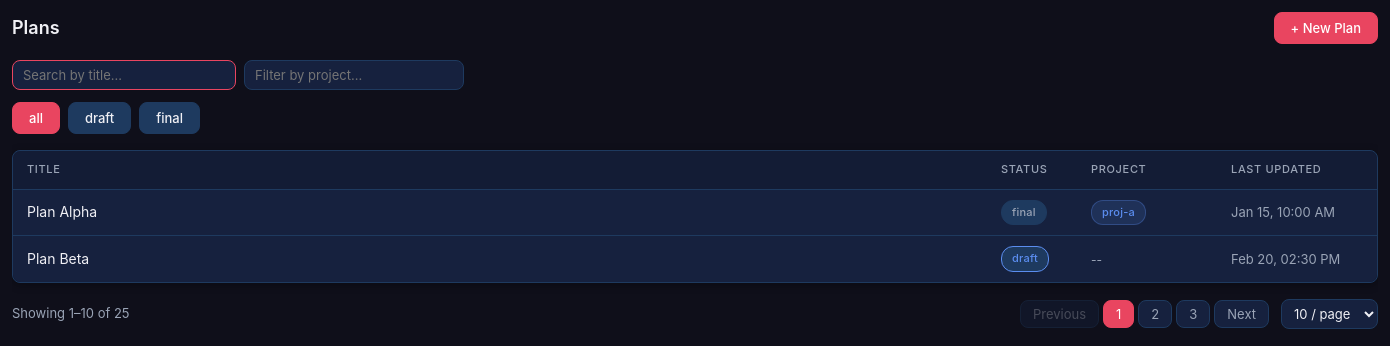
Scenario: PlansIndexPage › coalesces typing into one search request without requiring Enter or a button
The width and height of the screenshot is (1390, 346).
Expected: the text "Plan Alpha" is shown, [13,189,987,236]
Type "Fo" into the field with placeholder "Search by title...".
click(124, 75); type("Fo")  # box [12,60,236,90]
Wait 200 ms
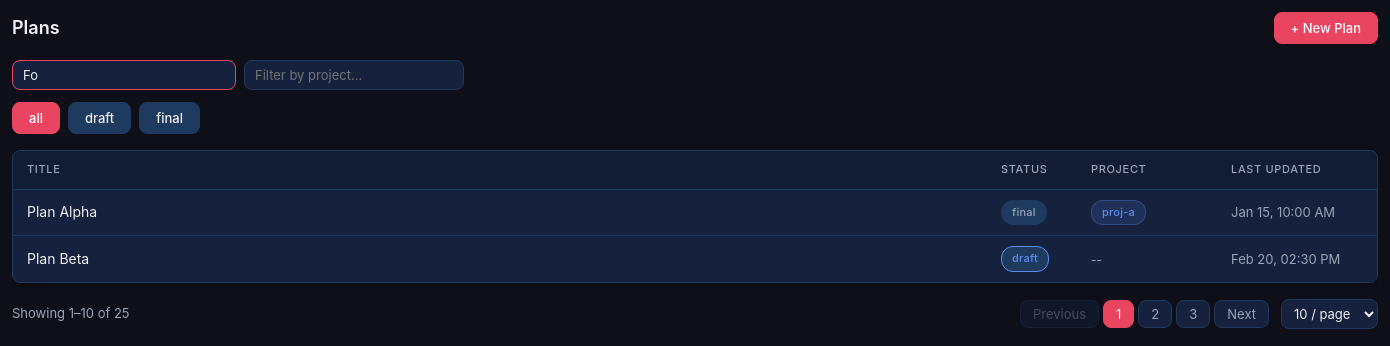
Replace the text in the field with placeholder "Search by title..." with "Found" at (124, 75), box [12,60,236,90]
Wait 300 ms
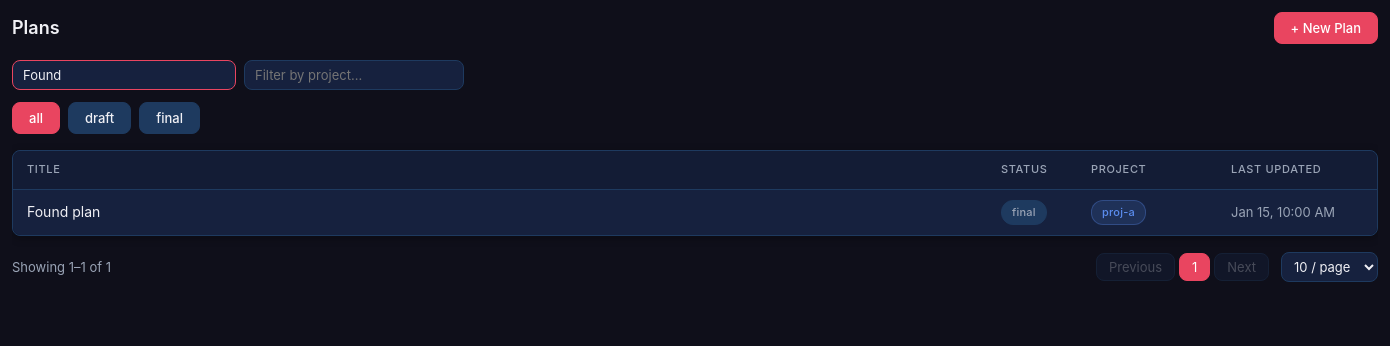
Expected: the text "Found plan" is shown, [13,189,987,235]
